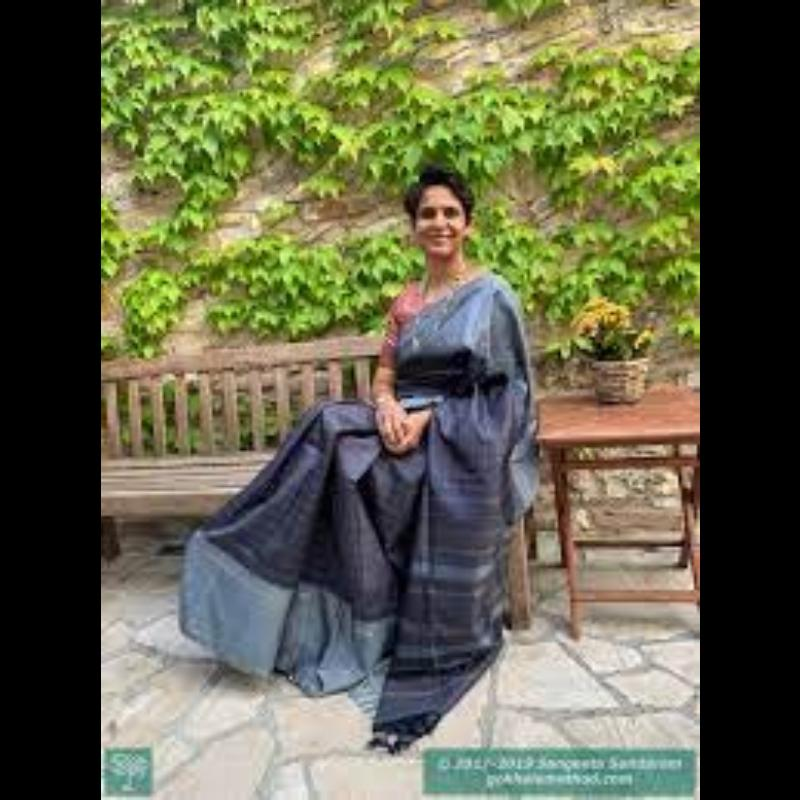Saree: (125, 274, 576, 772)
